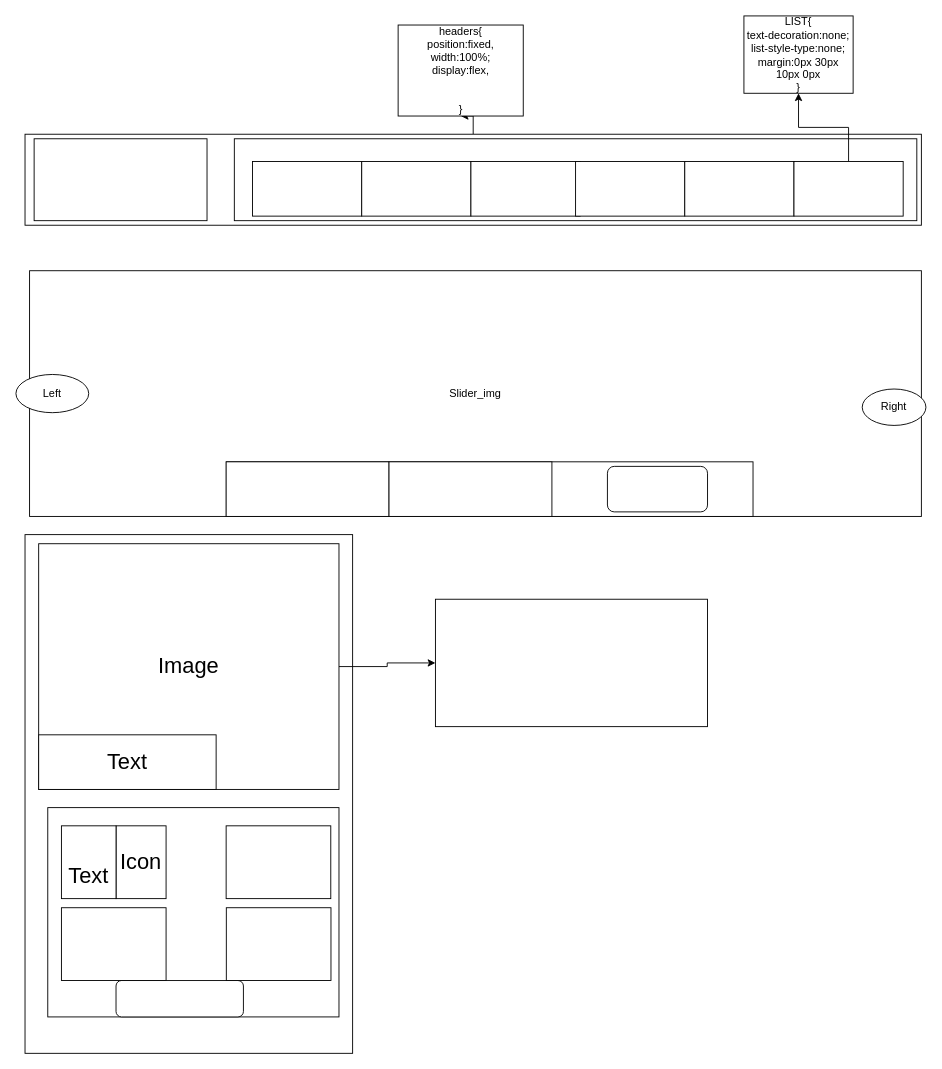
Image size: 942x1069. Some labels were removed from this diagram. Each missing label, with the centre of its shape:
API: [571,662]
LOGO: [120,179]
View Detail: [179,998]
